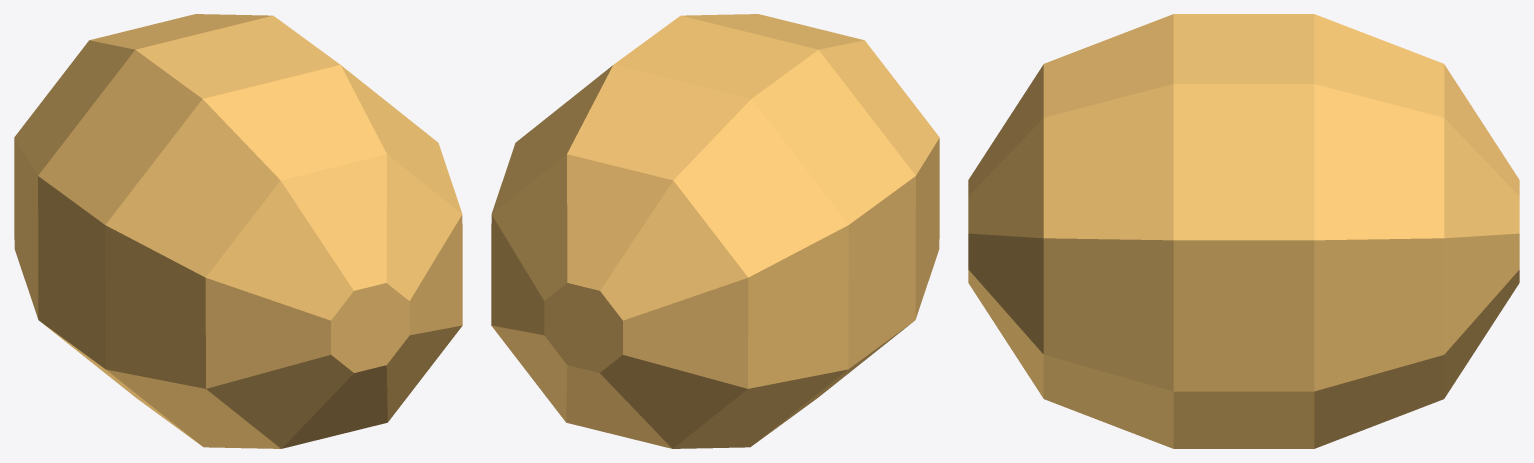
File: Food_LemonFull.fbx
3 views of the same model, side by side, from view 1: azimuth 30°, elevation 25°; view 2: azimuth 150°, elevation 25°; view 3: azimuth 270°, elevation 25° (orthographic). The views are drawn at different scales.
Visible parts, largest first — view 1: Cylinder.008; view 2: Cylinder.008; view 3: Cylinder.008.
Boxes of the visible parts, x1,y1,x2,y2 form: Cylinder.008: [14, 14, 462, 448]; Cylinder.008: [491, 14, 939, 448]; Cylinder.008: [968, 14, 1519, 448].
Size of the model in its own units: 8.09 by 8.09 by 11.07.
